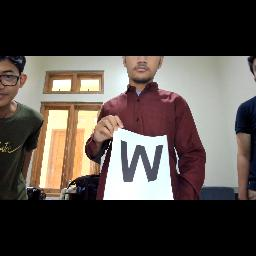w: (114, 139, 166, 185)
